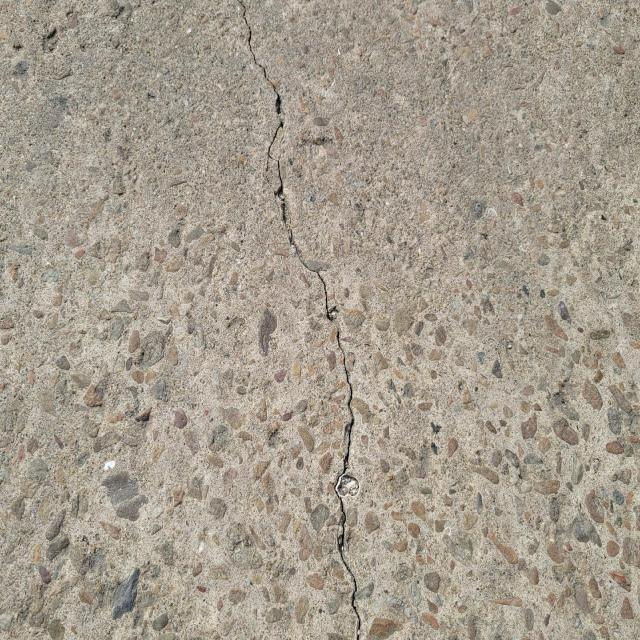SurfaceCrack: (220, 2, 405, 639)
